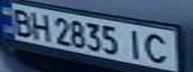2: (48, 15, 72, 47)
3: (84, 20, 103, 53)
5: (100, 22, 124, 56)
8: (66, 17, 87, 50)
B: (6, 6, 36, 37)
C: (139, 30, 178, 65)
H: (27, 10, 54, 42)
I: (121, 27, 148, 61)
